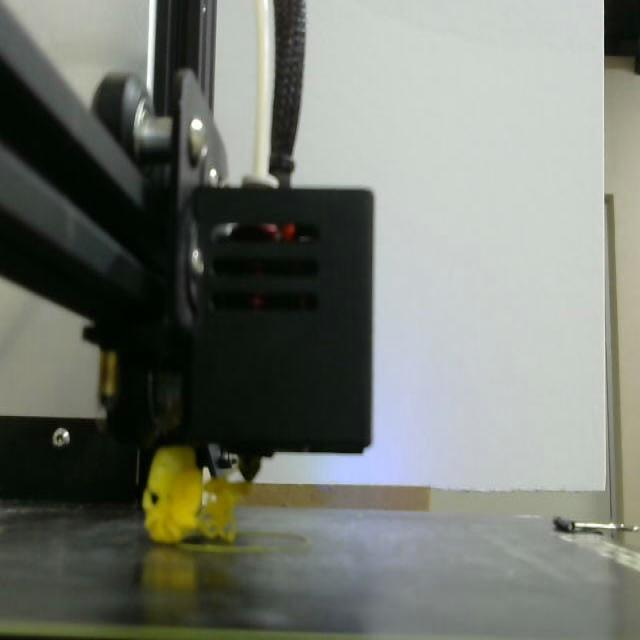spaghetti: (134, 444, 254, 548)
